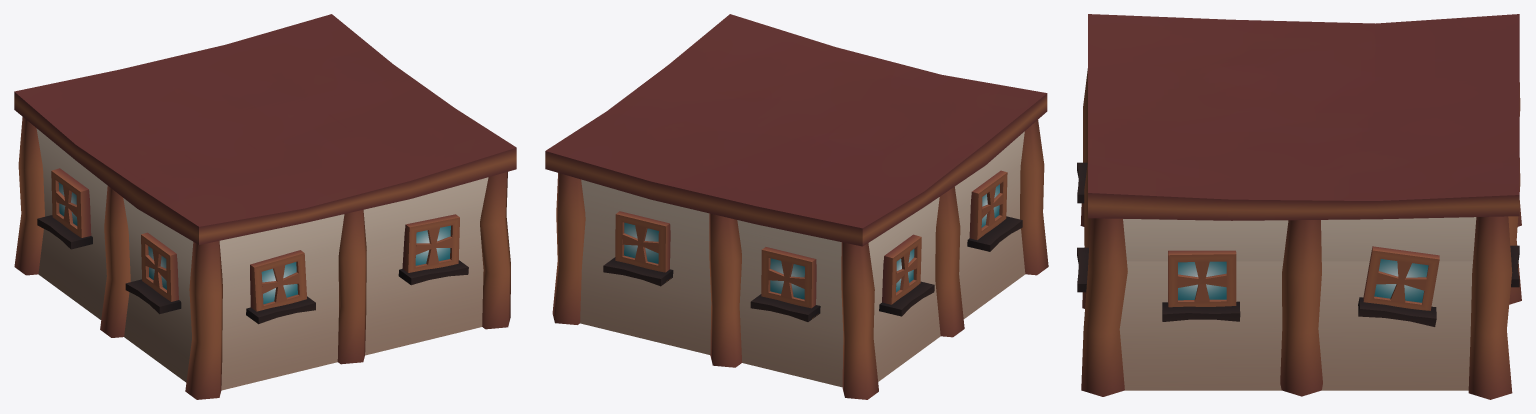
File: FloorB01.fbx
3 views of the same model, side by side, from view 1: azimuth 30°, elevation 25°; view 2: azimuth 150°, elevation 25°; view 3: azimuth 270°, elevation 25° (orthographic). The views are drawn at different scales.
Visible parts, largest first — view 1: FloorB01; view 2: FloorB01; view 3: FloorB01.
Boxes of the visible parts, x1,y1,x2,y2 form: FloorB01: [14, 14, 516, 399]; FloorB01: [545, 14, 1048, 399]; FloorB01: [1077, 14, 1521, 399].
Size of the model in its own units: 668 by 337 by 666.
1 material, 1 textured.
